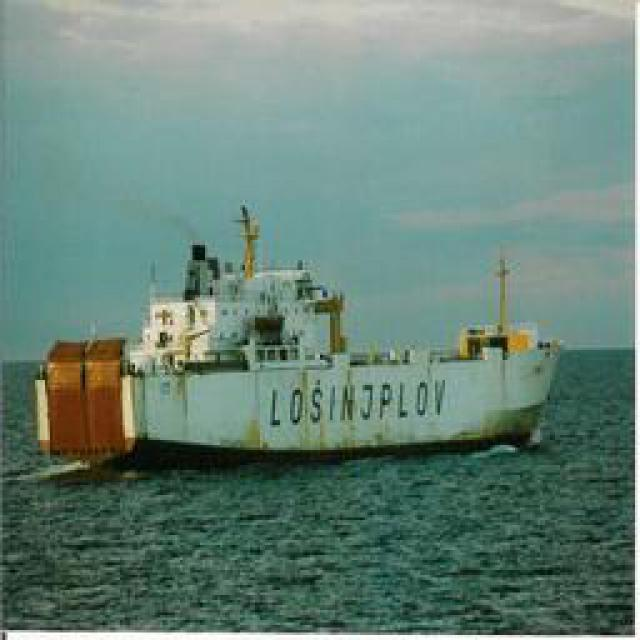Ship: (54, 195, 567, 470)
